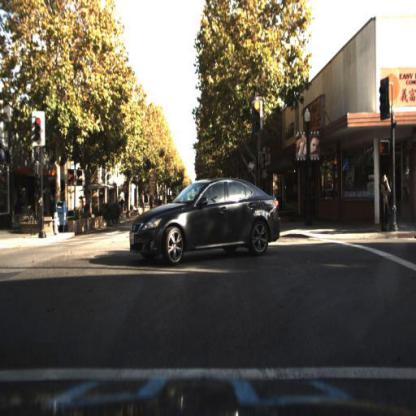car: (129, 173, 287, 267)
pedestrian: (378, 172, 394, 237), (379, 171, 393, 236)
trafficLight-Red: (33, 112, 45, 146), (252, 99, 262, 135)
